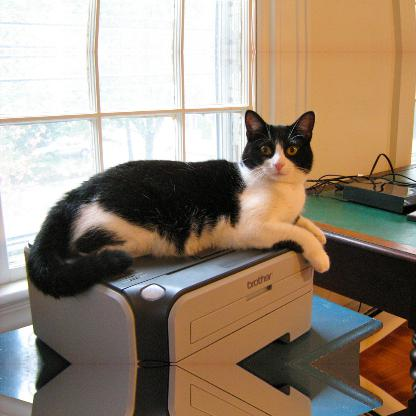Cat: (23, 108, 331, 300)
